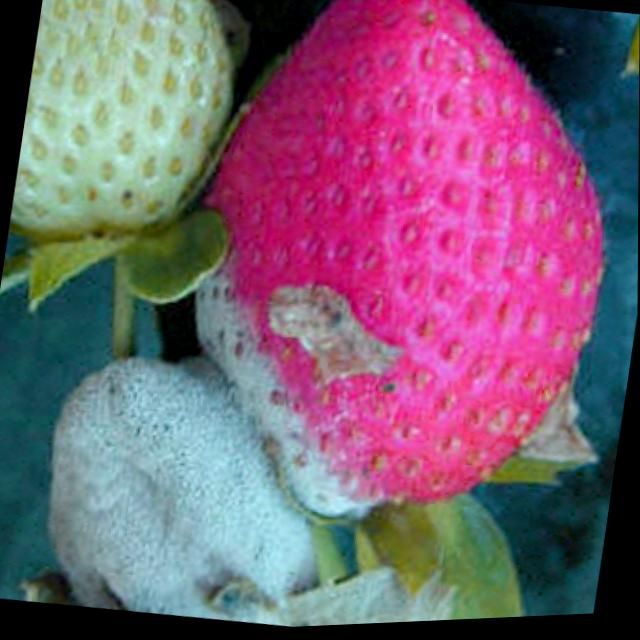Gray Mold: (19, 355, 326, 630), (197, 244, 471, 522)
